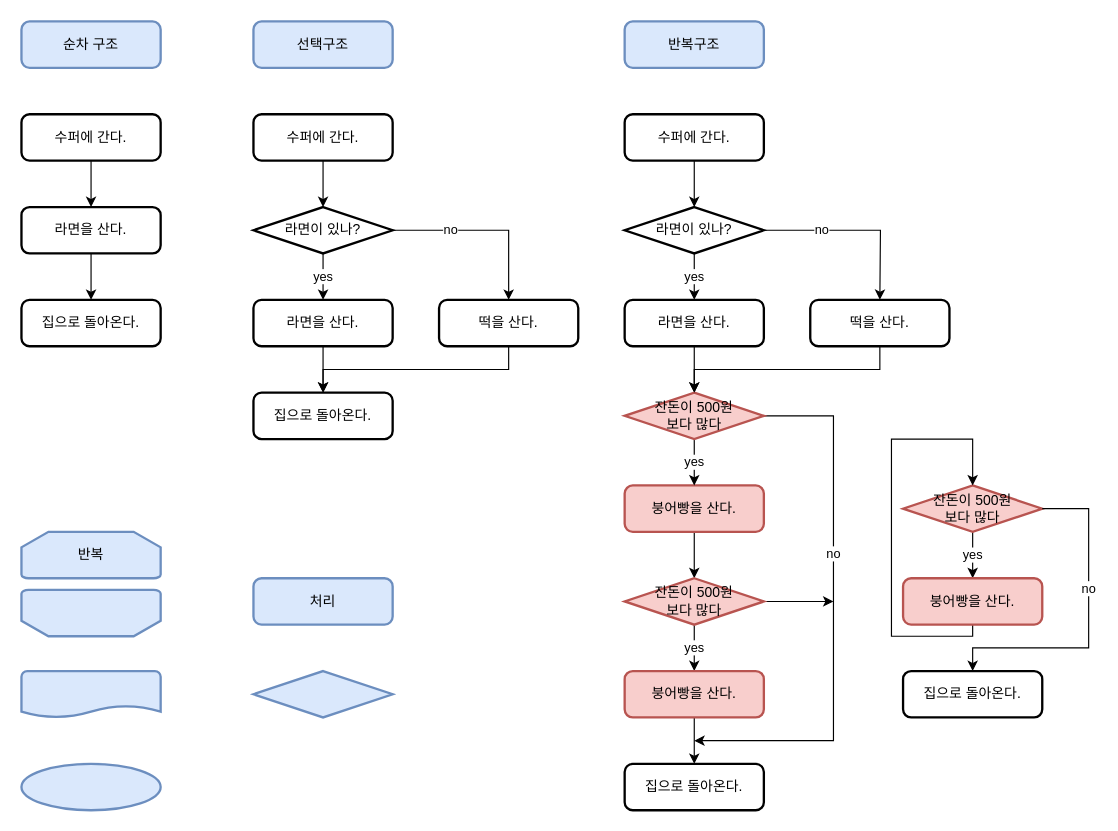
Some shapes in this 1118 by 831 pixel diagram are drawn without their labels. Each missing label, with the box of its shape:
분기: (252, 669, 393, 718)
시작/끝: (20, 762, 161, 811)
출력: (20, 669, 161, 718)
